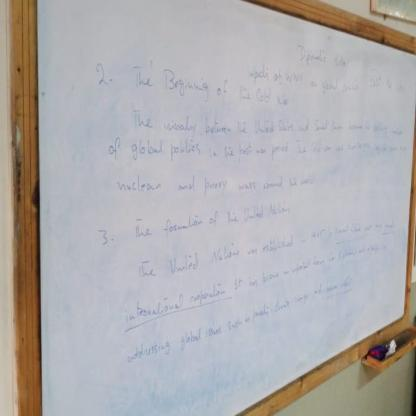Handwritten text: (115, 277, 318, 373), (117, 247, 331, 331), (125, 55, 295, 125), (131, 221, 301, 287), (112, 157, 319, 201), (127, 193, 296, 244), (107, 133, 346, 165), (130, 105, 346, 140), (241, 57, 370, 101), (291, 40, 356, 74), (368, 67, 384, 94)
